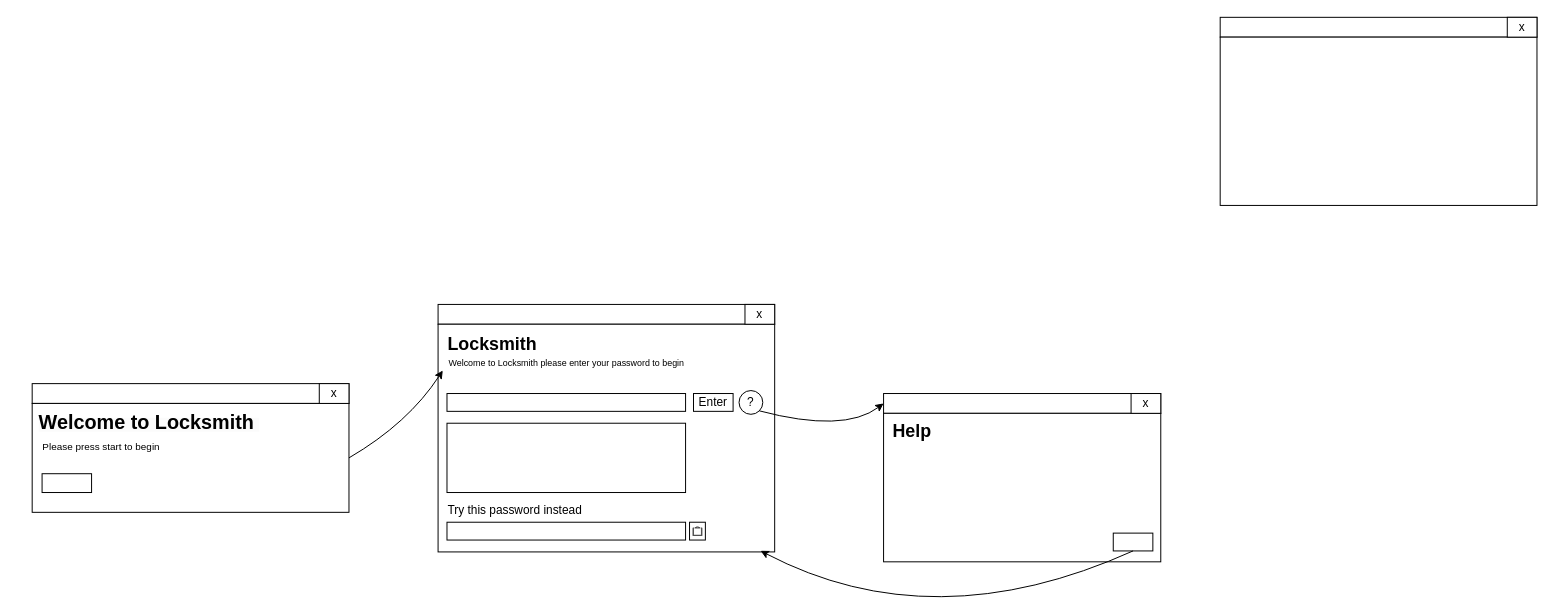
This 1554x615 diagram has some shape labels left out. The shapes that lost their labels are listed below. From the top down, each one's centre as x and y in pixels, then its label:
At point 566,457: "Reasons for Insecurity - Reason 1 - Reason 2 - Etc..".
At point 66,483: "Start".
At point 1132,541: "Ok".
